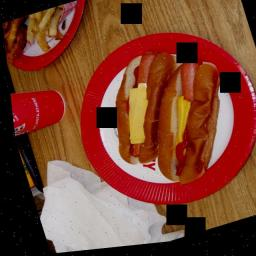hotdog: (122, 52, 242, 198), (80, 43, 202, 178), (11, 2, 85, 65)
